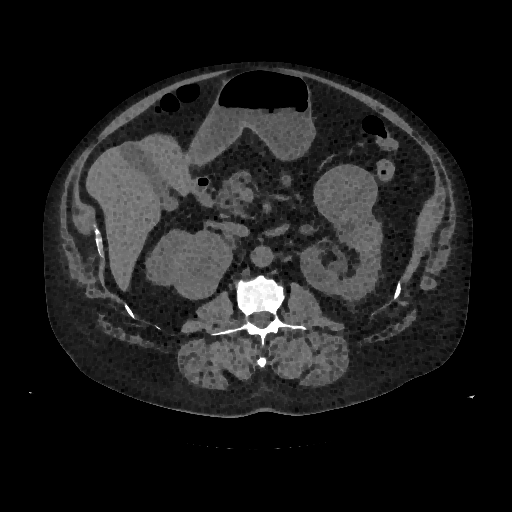Lesion: (312, 164, 379, 226)
